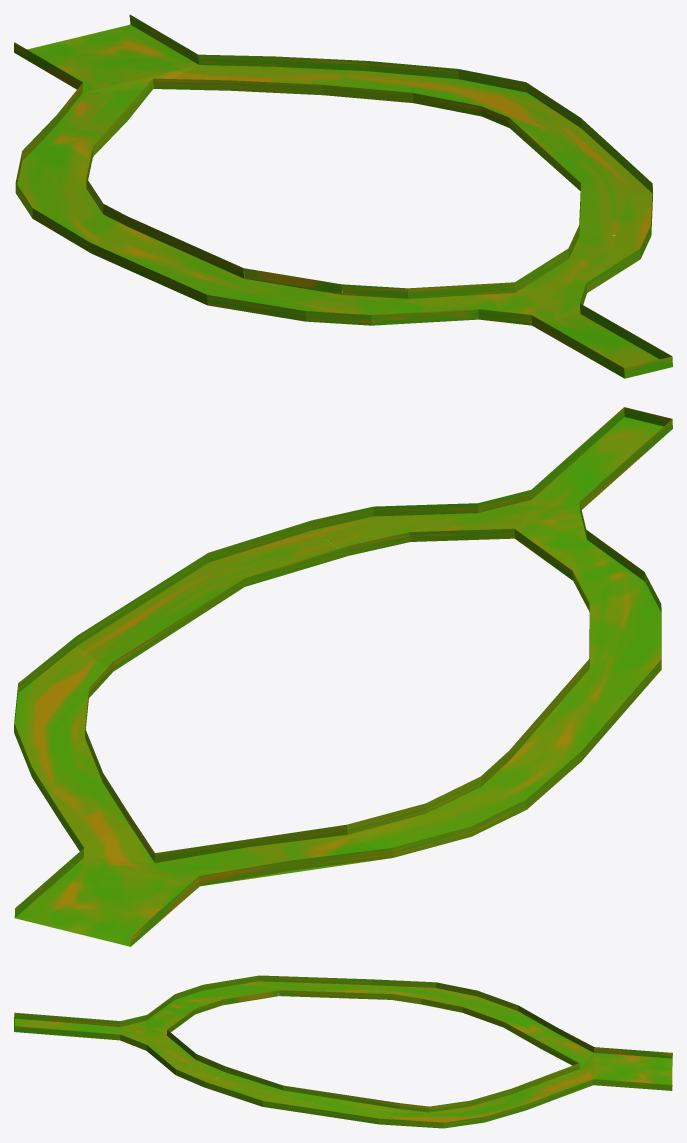
File: Stage_Short_var01.fbx
The picture shows the model from 3 angles, top to bottom: view 1: azimuth 30°, elevation 25°; view 2: azimuth 150°, elevation 25°; view 3: azimuth 270°, elevation 25°; orthographic projection. The views are drawn at different scales.
Visible parts, largest first — view 1: 立方体.001; view 2: 立方体.001; view 3: 立方体.001.
Part boxes in pixels (box(x1,y1,x2,y2)): 立方体.001: box(14, 14, 672, 378); 立方体.001: box(14, 407, 672, 946); 立方体.001: box(14, 975, 672, 1128).
Size of the model in its own units: 62352 by 11557 by 124163.
1 material, 1 textured.
